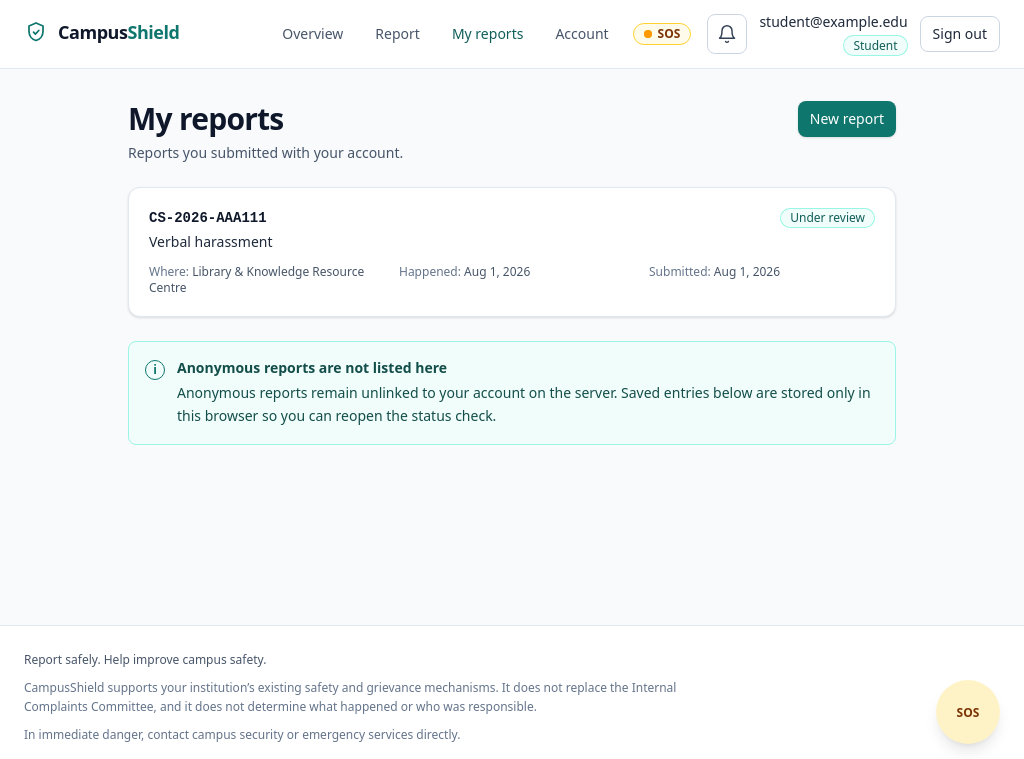
it: MyReportsPage → ReportDetailPage navigation › opens a report from the list
The width and height of the screenshot is (1024, 759).
Click the text "CS-2026-AAA111" at (211,218), box [149,208,272,228]
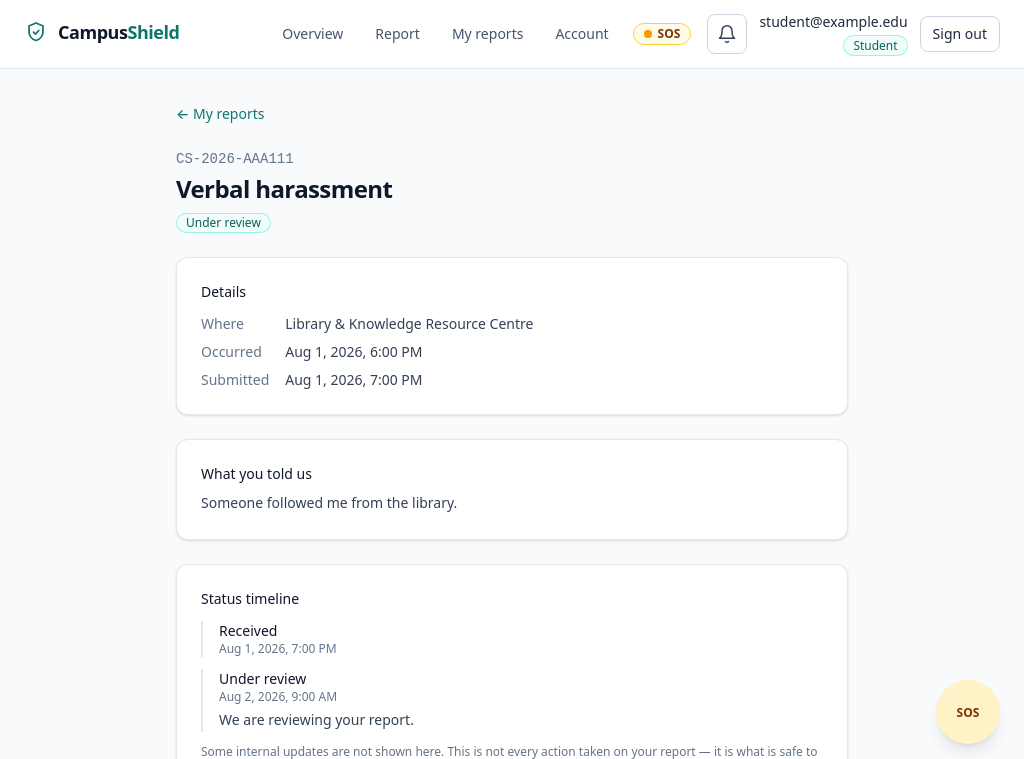
Check: the heading "Status timeline" is shown, box [201,589,299,608]
